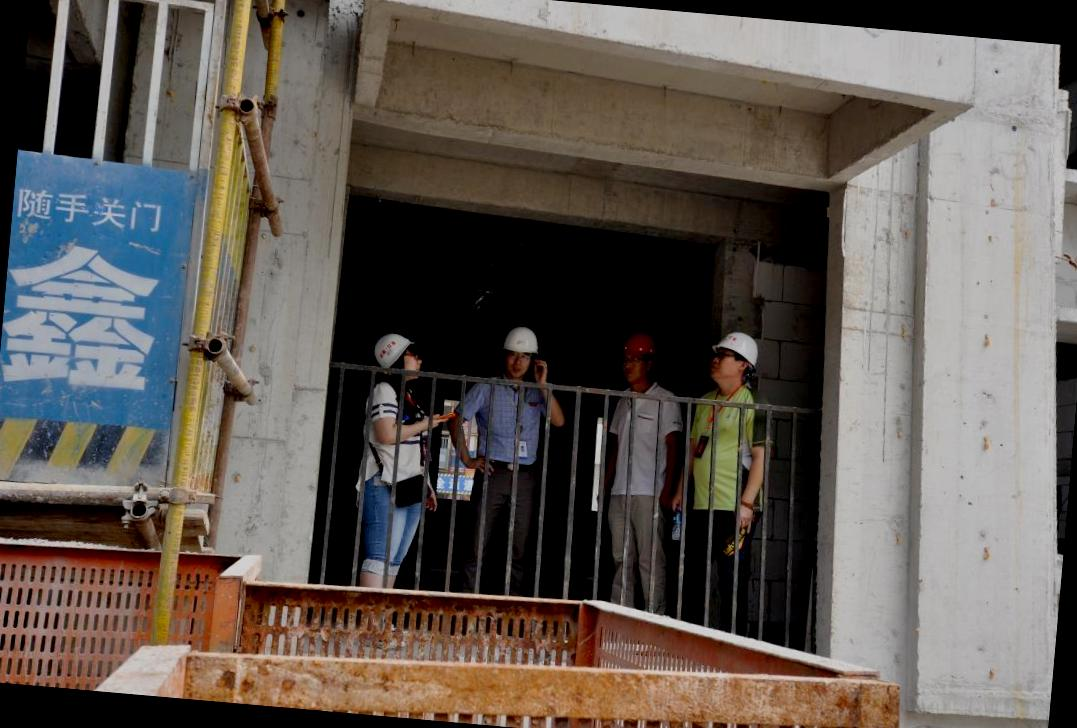helmet: (709, 325, 760, 363), (497, 320, 542, 358), (366, 328, 408, 360), (622, 326, 650, 356)
person: (670, 326, 790, 626), (442, 314, 569, 592), (578, 322, 698, 609), (347, 328, 444, 600)
